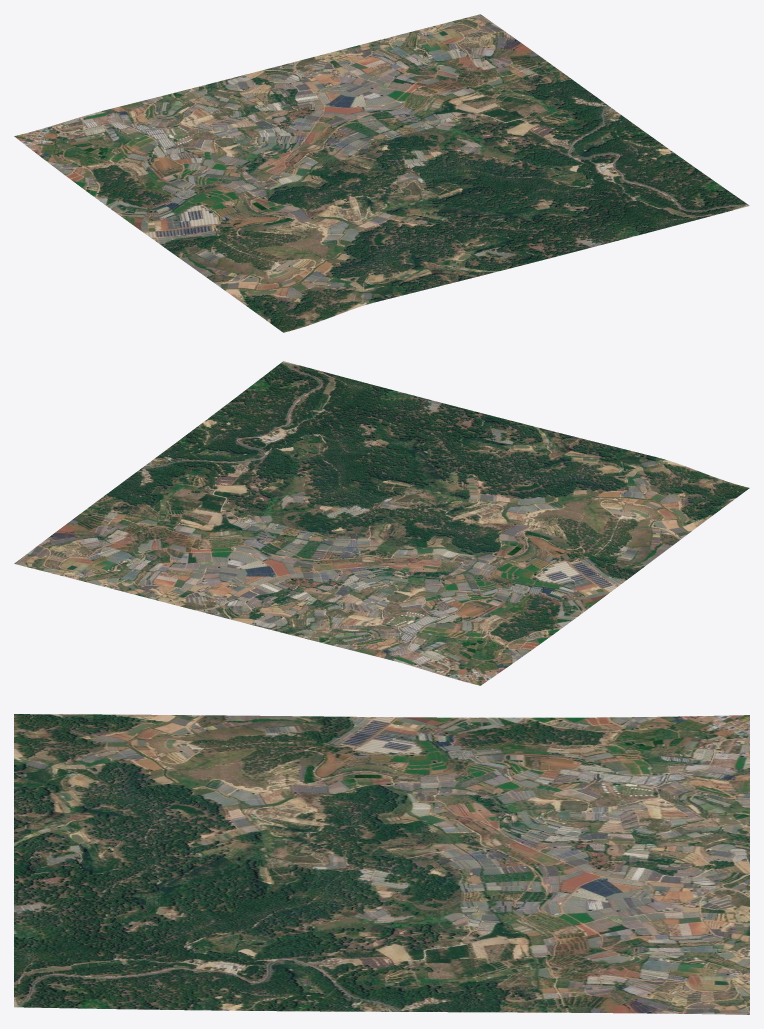
Rendered from terrain_real_T_E04_S01.glb.
The picture shows the model from 3 angles, top to bottom: view 1: azimuth 30°, elevation 25°; view 2: azimuth 150°, elevation 25°; view 3: azimuth 270°, elevation 25°; orthographic projection. The views are drawn at different scales.
Parts seen in each view (by area): view 1: Terrain_Real_DEM_T_E04_S01; view 2: Terrain_Real_DEM_T_E04_S01; view 3: Terrain_Real_DEM_T_E04_S01.
Boxes of the visible parts, bbox=[...] form: Terrain_Real_DEM_T_E04_S01: bbox=[14, 14, 749, 332]; Terrain_Real_DEM_T_E04_S01: bbox=[14, 361, 749, 685]; Terrain_Real_DEM_T_E04_S01: bbox=[14, 714, 749, 1014].
Size of the model in its own units: 2000 by 64.55 by 2000.
1 material, 1 textured.
